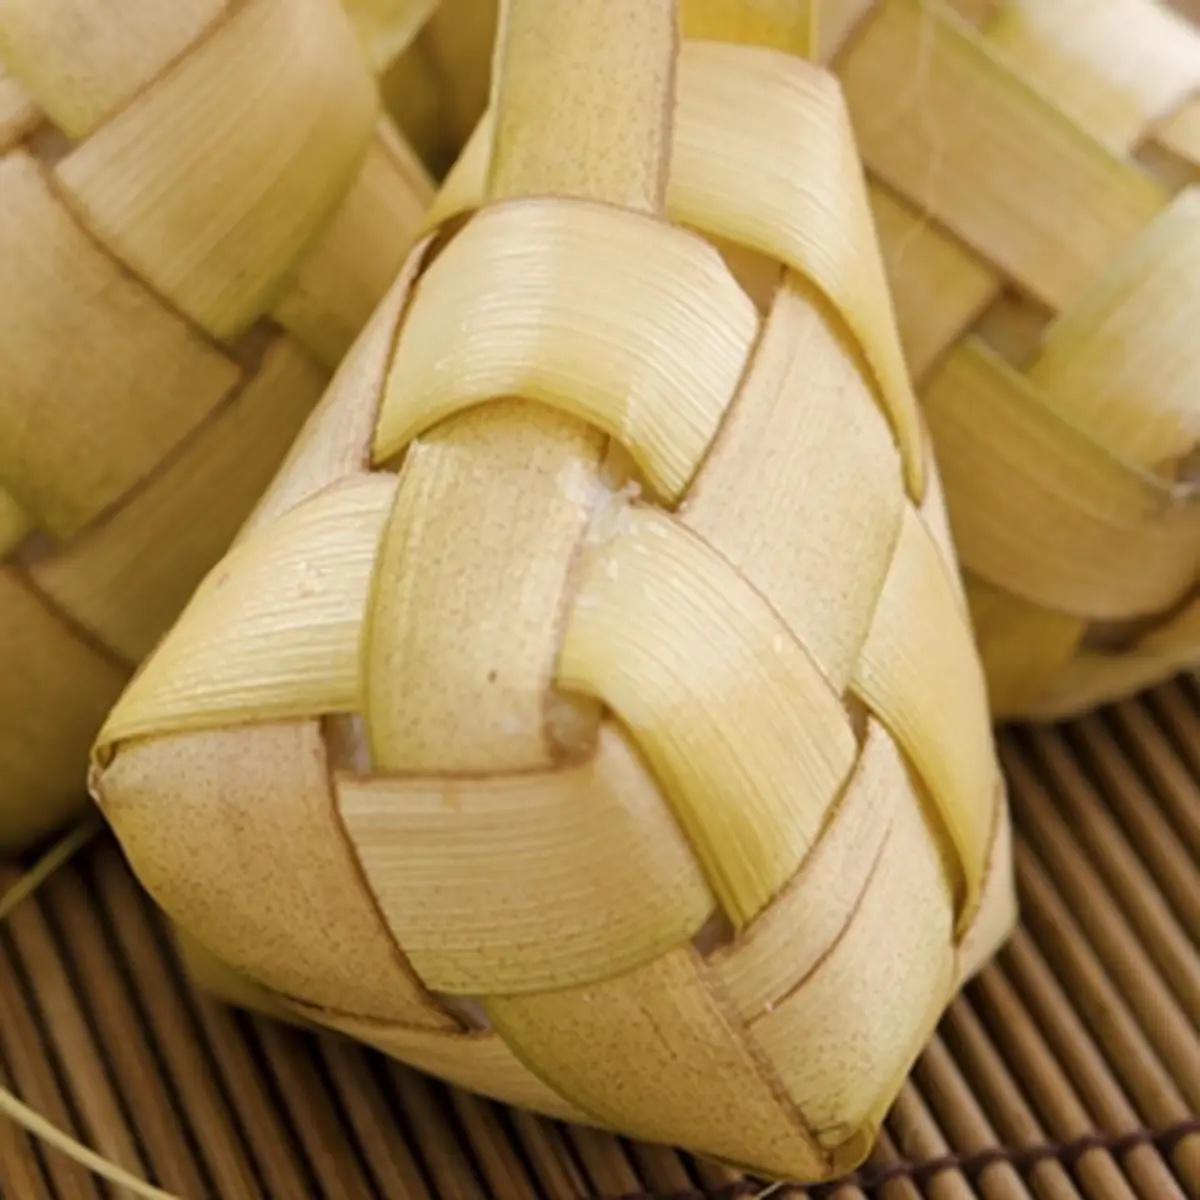ketupat: (86, 21, 1016, 1184)
